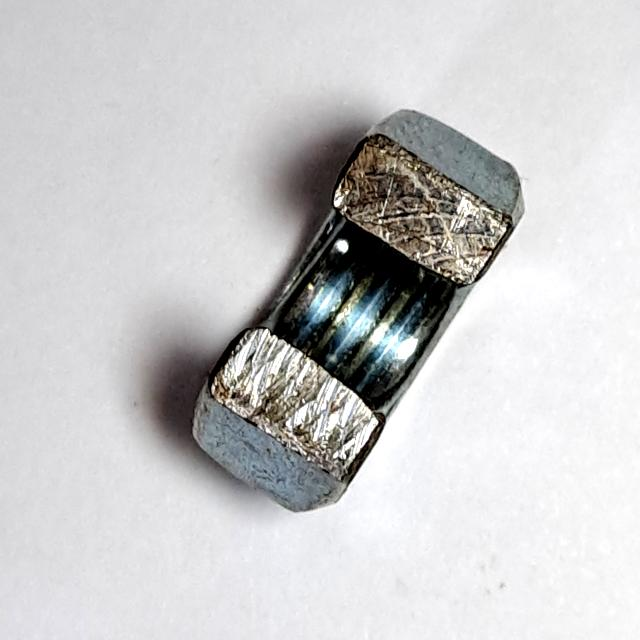Side-Fracture: (184, 96, 532, 528)
